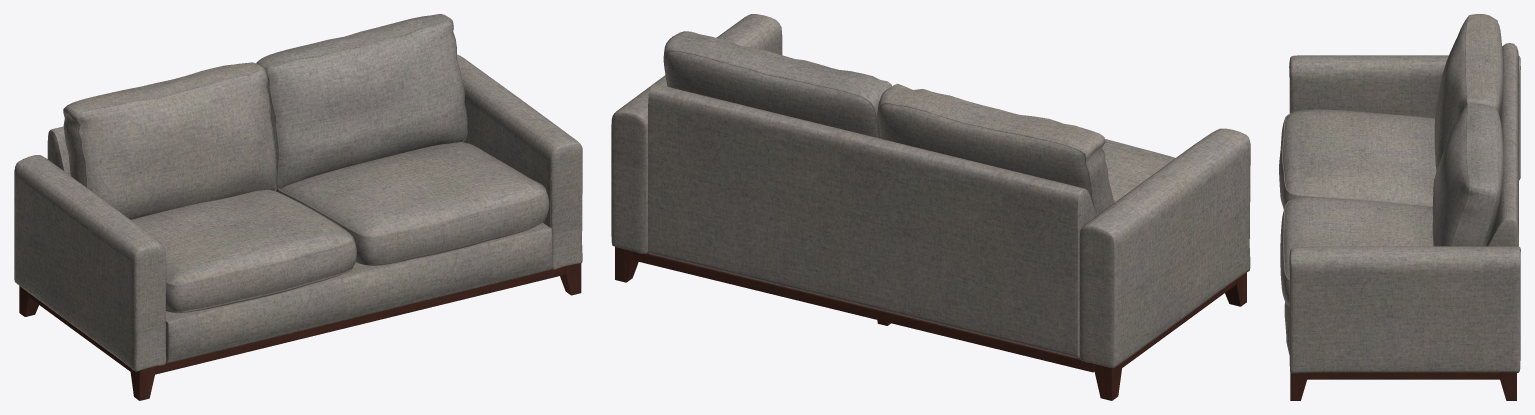
File: B07124WMX5.glb
3 renders of one model, left to right at view 1: azimuth 30°, elevation 25°; view 2: azimuth 150°, elevation 25°; view 3: azimuth 270°, elevation 25°, orthographic. The views are drawn at different scales.
Parts seen in each view (by area): view 1: RootNode; view 2: RootNode; view 3: RootNode.
Part boxes in pixels (x1=…): RootNode: x1=14, y1=14, x2=582, y2=400; RootNode: x1=611, y1=14, x2=1250, y2=400; RootNode: x1=1279, y1=14, x2=1520, y2=400.
Size of the model in its own units: 1.98 by 0.8919 by 0.9695.
Materials: 1 (1 with a texture image).
